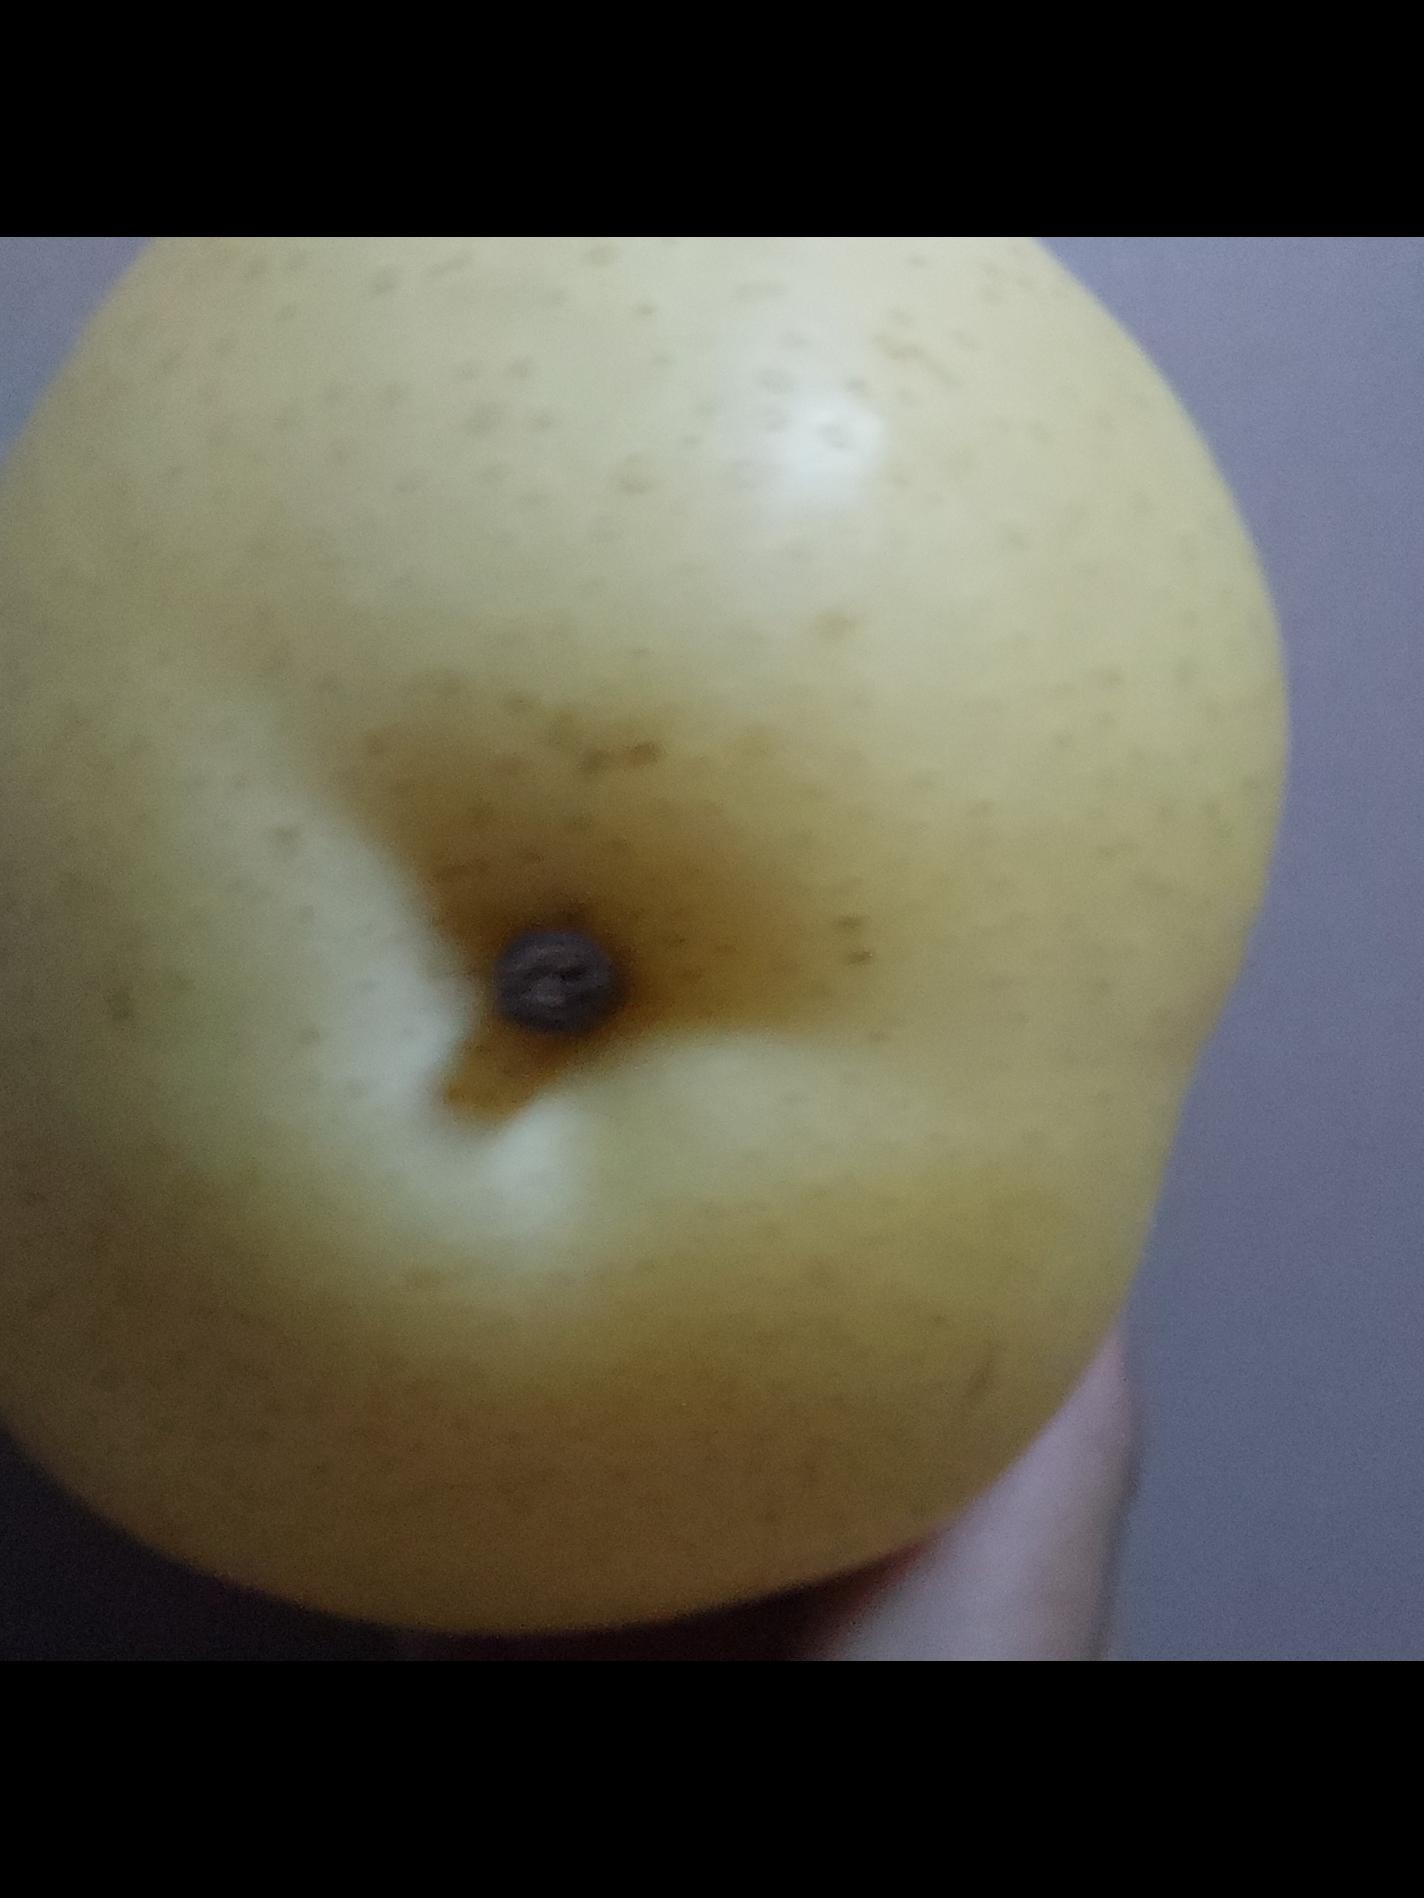Good Pear: (0, 236, 1291, 1603)
